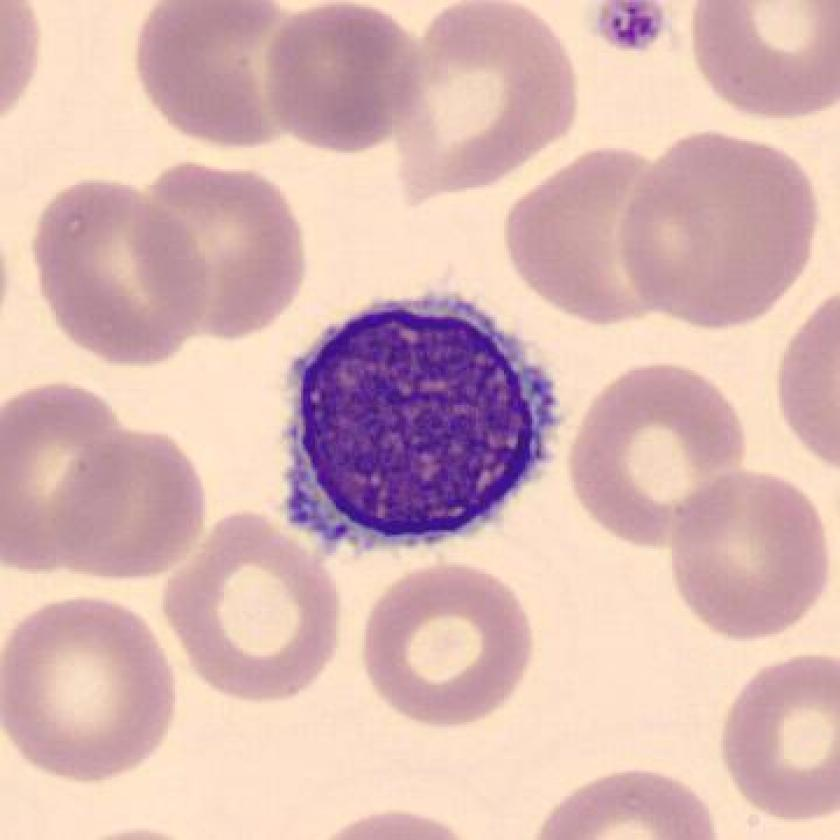lymphocyte: (260, 281, 575, 575)
